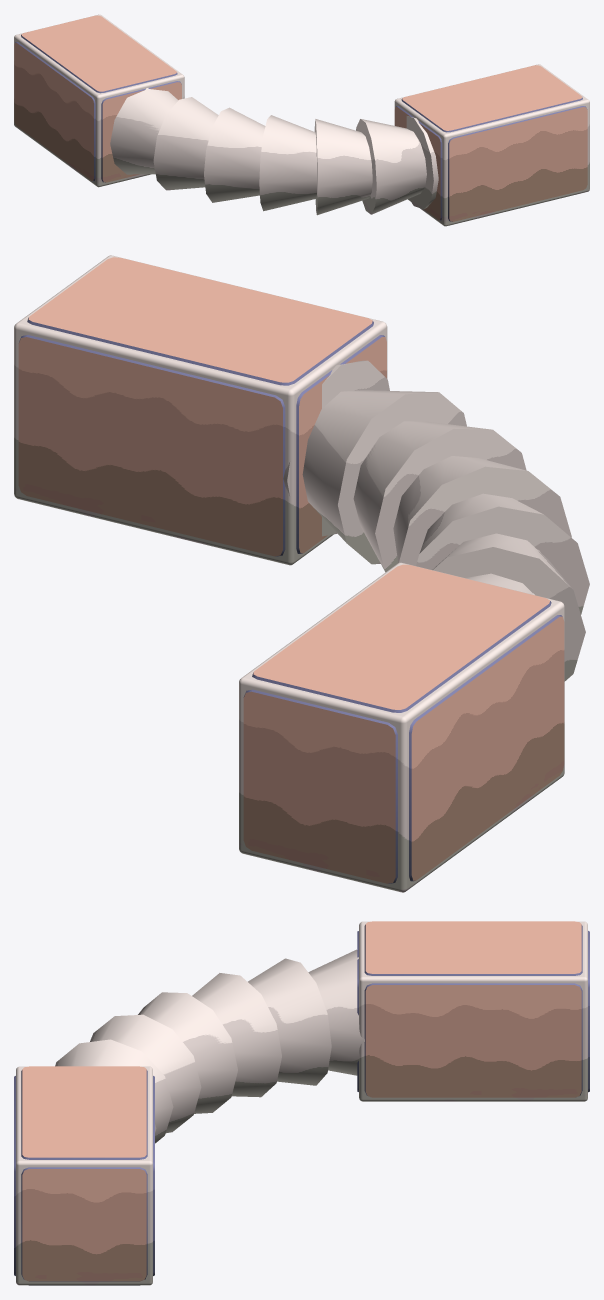
Rendered from R4C_ROD_ARC_SHORT.glb.
3 renders of one model, top to bottom at view 1: azimuth 30°, elevation 25°; view 2: azimuth 150°, elevation 25°; view 3: azimuth 270°, elevation 25°, orthographic. The views are drawn at different scales.
Visible parts, largest first — view 1: R4C_ROD_ARC_SHORT; view 2: R4C_ROD_ARC_SHORT; view 3: R4C_ROD_ARC_SHORT.
Part boxes in pixels (left/top/right/bottom): R4C_ROD_ARC_SHORT: left=14, top=14, right=589, bottom=226; R4C_ROD_ARC_SHORT: left=14, top=255, right=589, bottom=892; R4C_ROD_ARC_SHORT: left=14, top=921, right=589, bottom=1285.
Bounding box in the file's own units: 0.923 × 0.226 × 0.923.
Materials: 3 (3 with a texture image).
